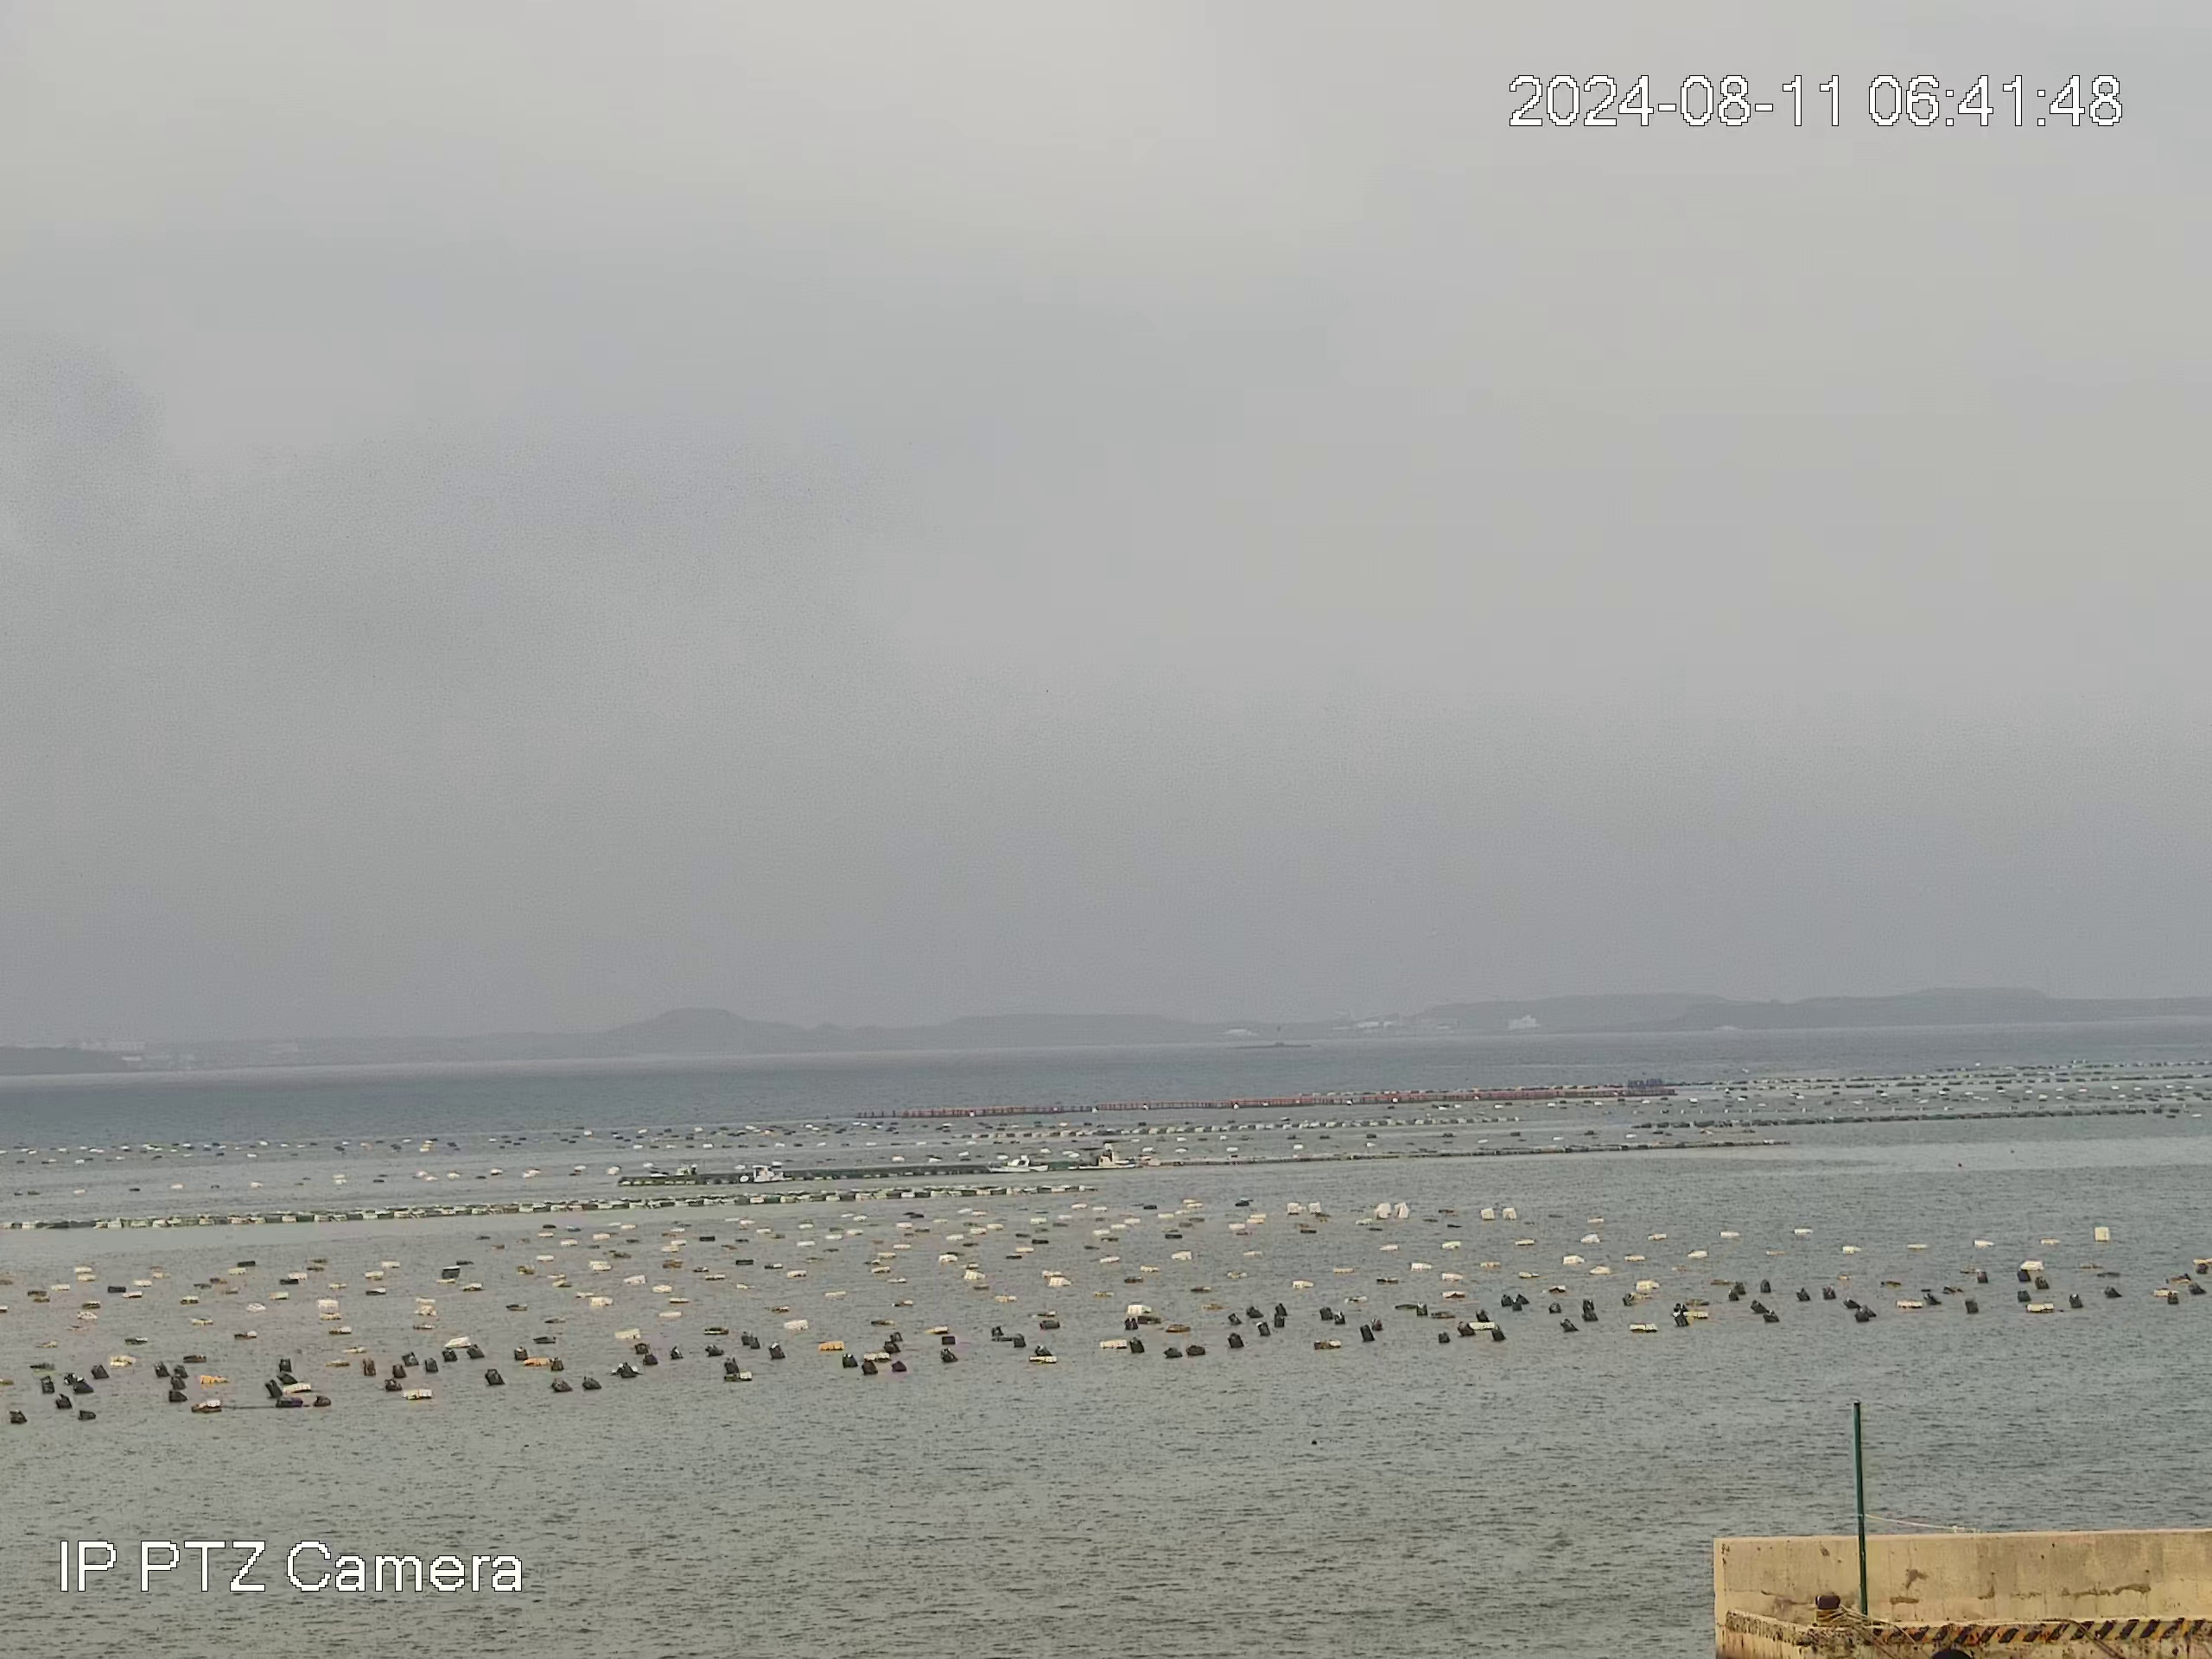boat: (982, 1154, 1050, 1175), (737, 1162, 789, 1183), (1066, 1154, 1120, 1171)
